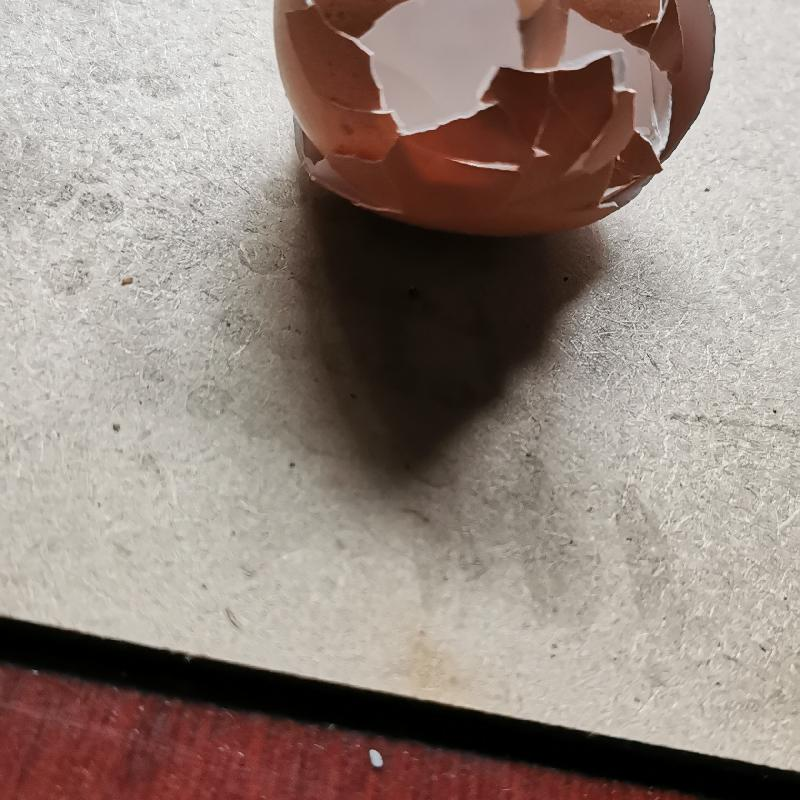eggshell: (262, 3, 715, 243)
